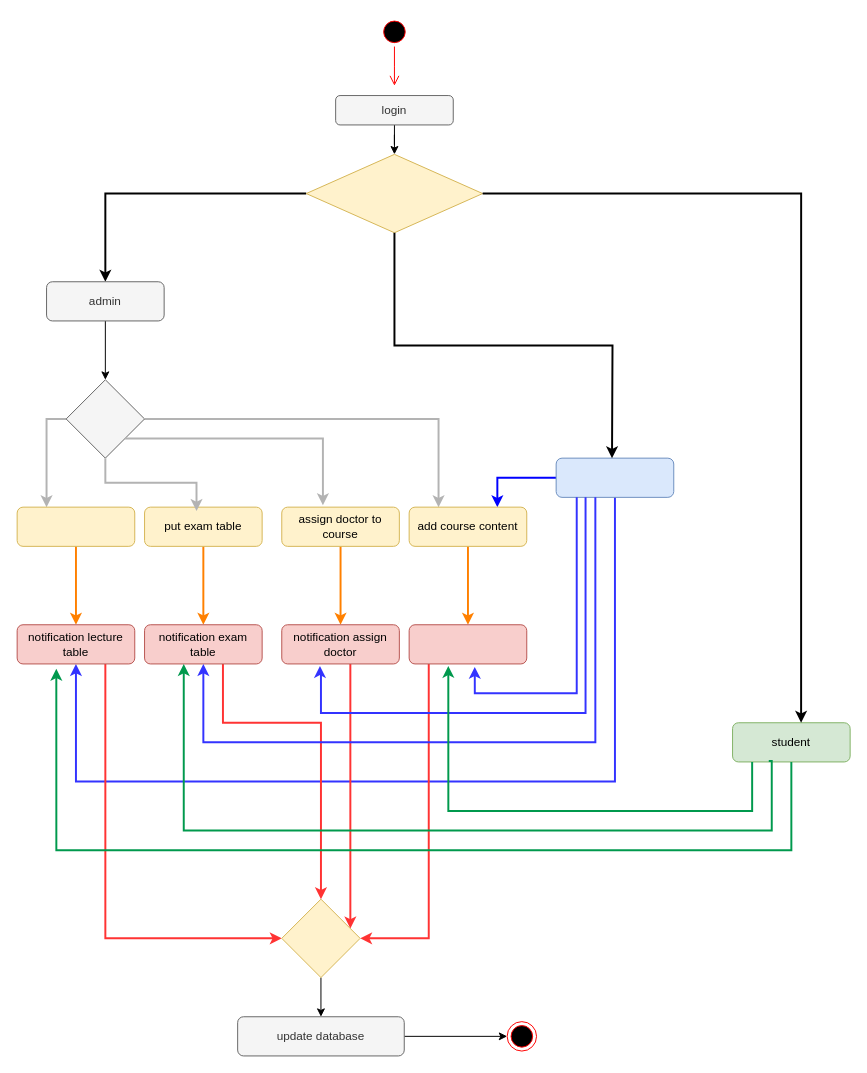
Some shapes in this 867 by 1073 pixel diagram are drawn without their labels. The shapes that lost their labels are listed below. From the top down, each one's centre as x and y in pixels, then its label:
At pixel 394 193: "select user category".
At pixel 105 418: "operations".
At pixel 614 477: "doctor".
At pixel 75 526: "put lecture table".
At pixel 467 644: "notification add content".
